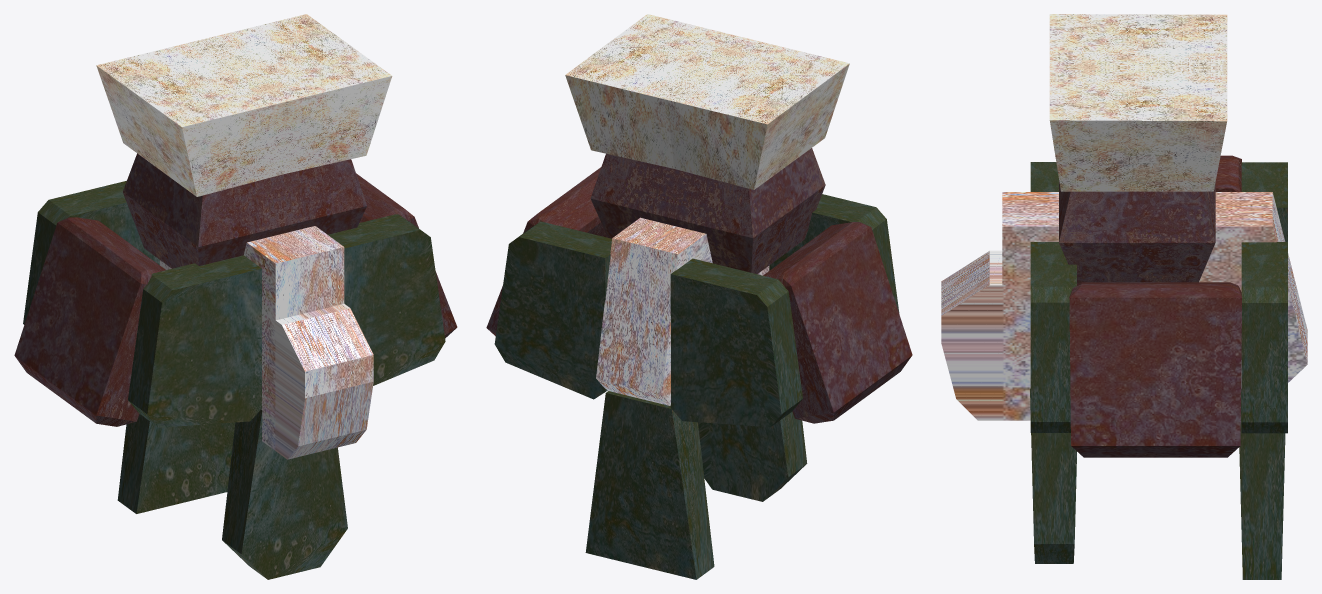
The model's file is pelvis.obj.
3 views of the same model, side by side, from view 1: azimuth 30°, elevation 25°; view 2: azimuth 150°, elevation 25°; view 3: azimuth 270°, elevation 25° (orthographic). The views are drawn at different scales.
Parts seen in each view (by area): view 1: pelvis; view 2: pelvis; view 3: pelvis.
Boxes of the visible parts, x1,y1,x2,y2 form: pelvis: (14,14,457,579); pelvis: (486,14,912,579); pelvis: (941,14,1307,579).
Size of the model in its own units: 4.97 by 6.14 by 4.21.
Materials: 4 (4 with a texture image).
